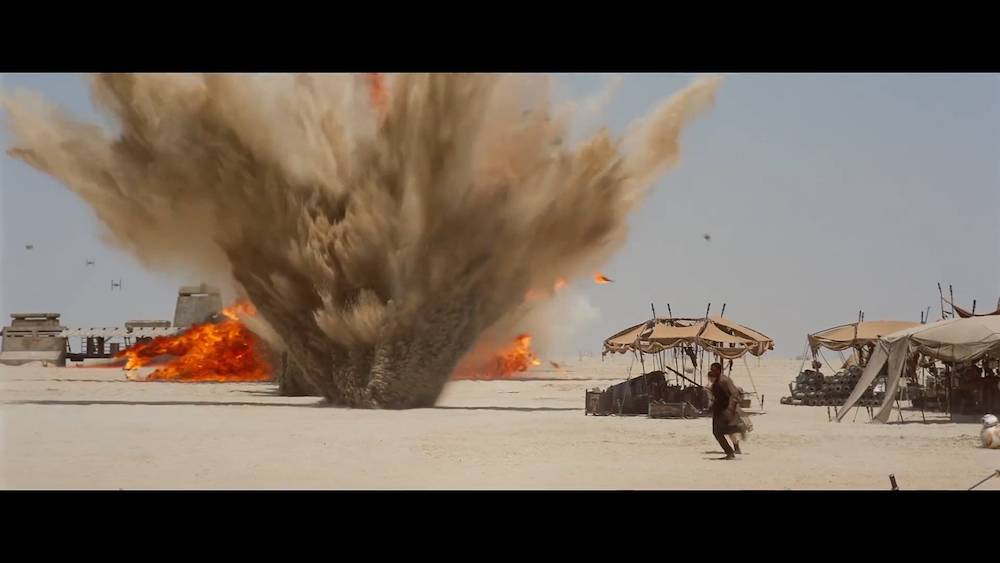Tie Fighter: (112, 281, 122, 291), (87, 260, 95, 268)
